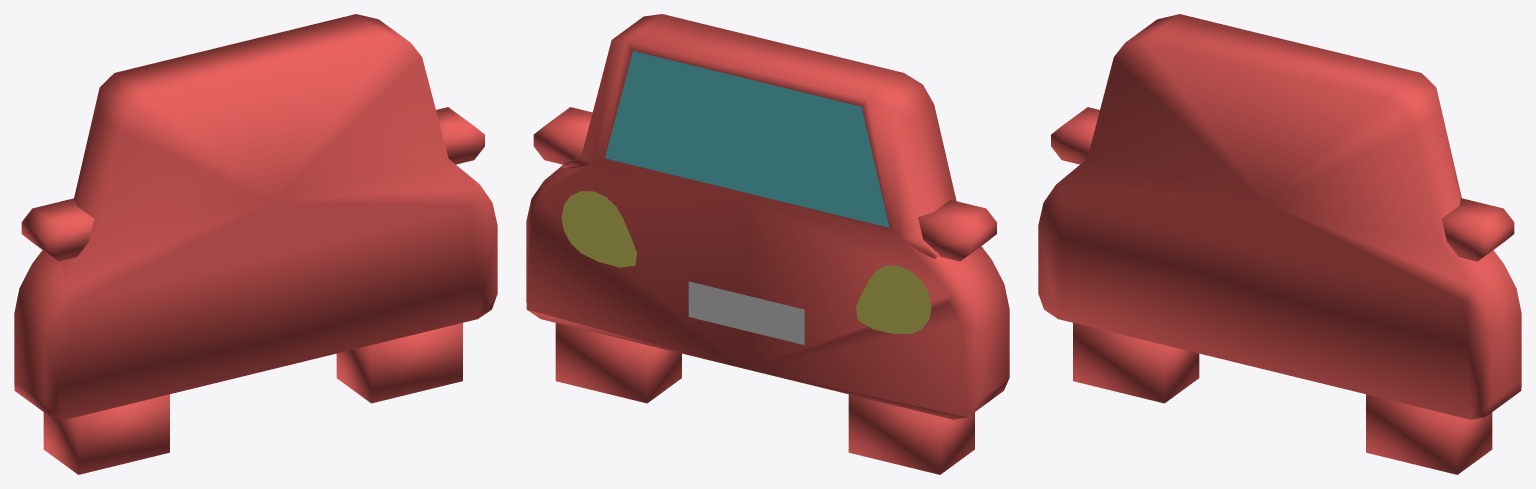
File: CarIcon.fbx
3 views of the same model, side by side, from view 1: azimuth 30°, elevation 25°; view 2: azimuth 150°, elevation 25°; view 3: azimuth 330°, elevation 25° (orthographic).
Parts seen in each view (by area): view 1: Car; view 2: Car; view 3: Car.
Part boxes in pixels (x1=…): Car: x1=14, y1=14, x2=497, y2=474; Car: x1=526, y1=14, x2=1009, y2=474; Car: x1=1038, y1=14, x2=1521, y2=474.
Bounding box in the file's own units: 362 × 274 × 51.
